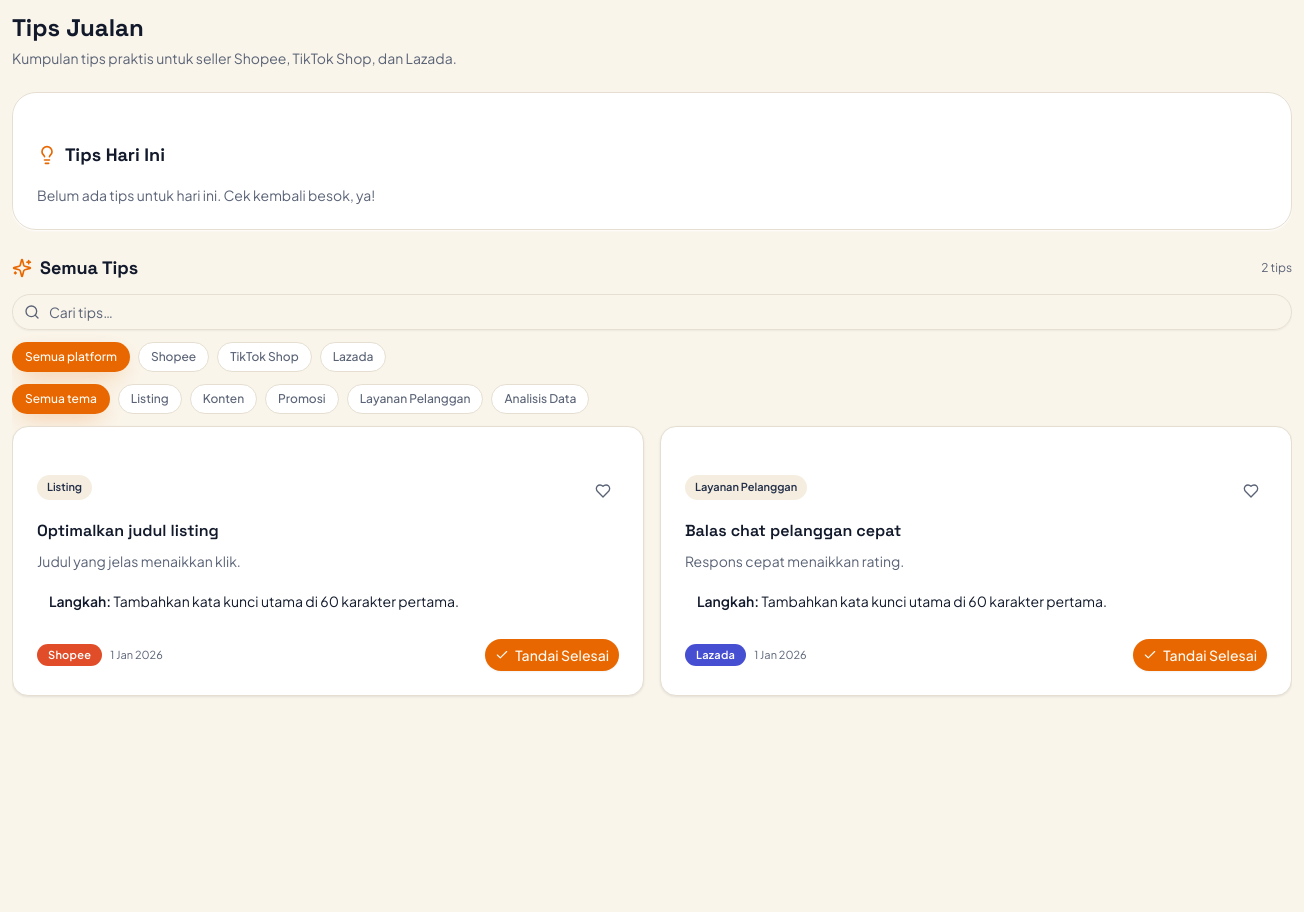
TipsPage › lists tips and filters by search text
Expected: the heading "Optimalkan judul listing" is shown, [37, 520, 219, 541]
Expected: the heading "Balas chat pelanggan cepat" is shown, [685, 520, 901, 541]
Type "judul" into the search field with test id "tips.search_input" at (652, 312), box [12, 294, 1292, 330]
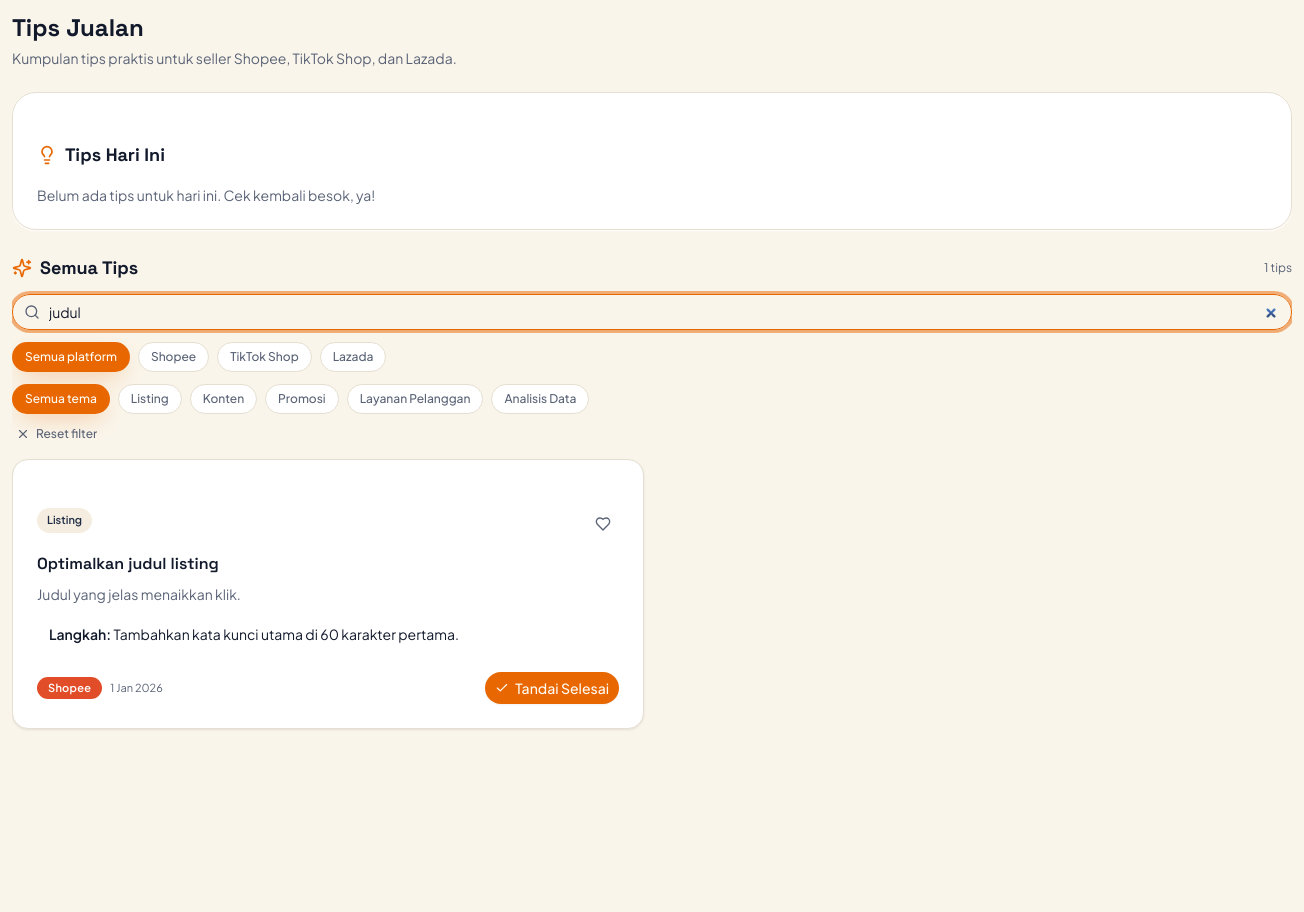
Expected: the heading "Optimalkan judul listing" is shown, [37, 553, 219, 574]
Expected: the heading "Balas chat pelanggan cepat" is gone
